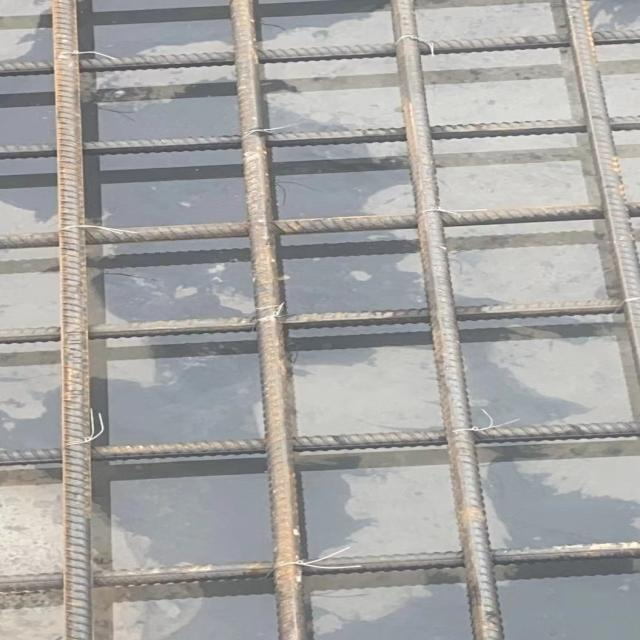ribbed bar: (385, 0, 505, 639), (229, 0, 312, 639), (0, 541, 639, 593), (0, 27, 639, 76), (0, 200, 639, 248), (0, 113, 639, 160), (0, 420, 639, 466), (562, 0, 639, 372), (0, 298, 622, 344), (51, 0, 95, 639)
